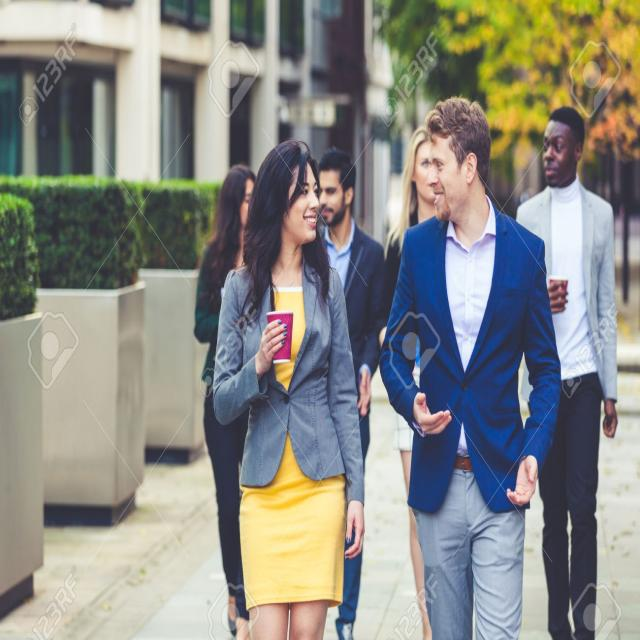body: (376, 95, 567, 639), (205, 127, 370, 639), (510, 103, 623, 640), (314, 144, 390, 640), (374, 122, 436, 639), (193, 164, 257, 637)
